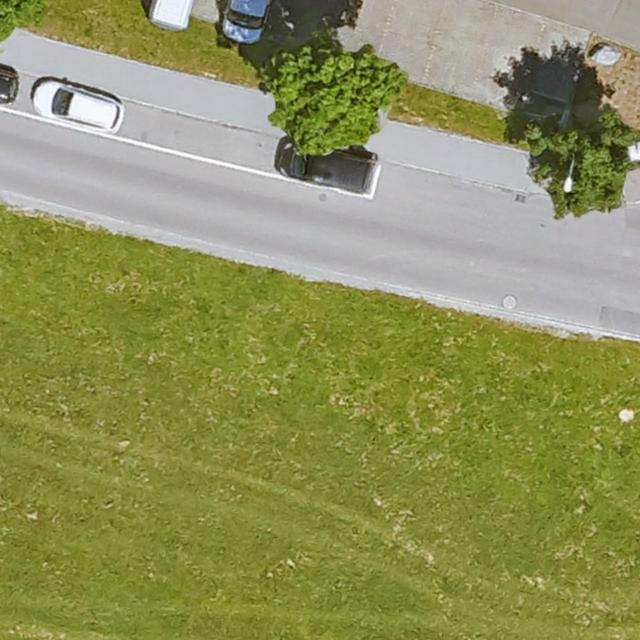tree: (269, 35, 404, 153), (532, 108, 630, 218), (0, 0, 24, 41)
